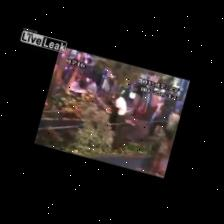person: (111, 93, 134, 149), (149, 100, 173, 136), (70, 79, 87, 96), (87, 80, 96, 95)
